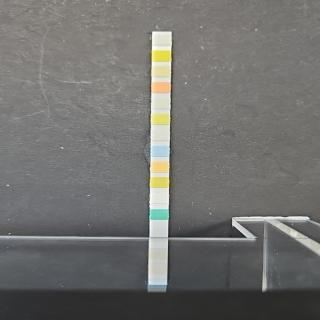mark: (152, 81, 172, 94), (151, 144, 169, 158), (148, 208, 169, 220), (152, 50, 171, 63), (152, 35, 172, 47), (150, 98, 170, 110), (151, 130, 170, 142), (150, 161, 169, 173), (150, 176, 169, 188), (150, 192, 169, 203), (152, 66, 170, 77), (152, 114, 170, 125)
